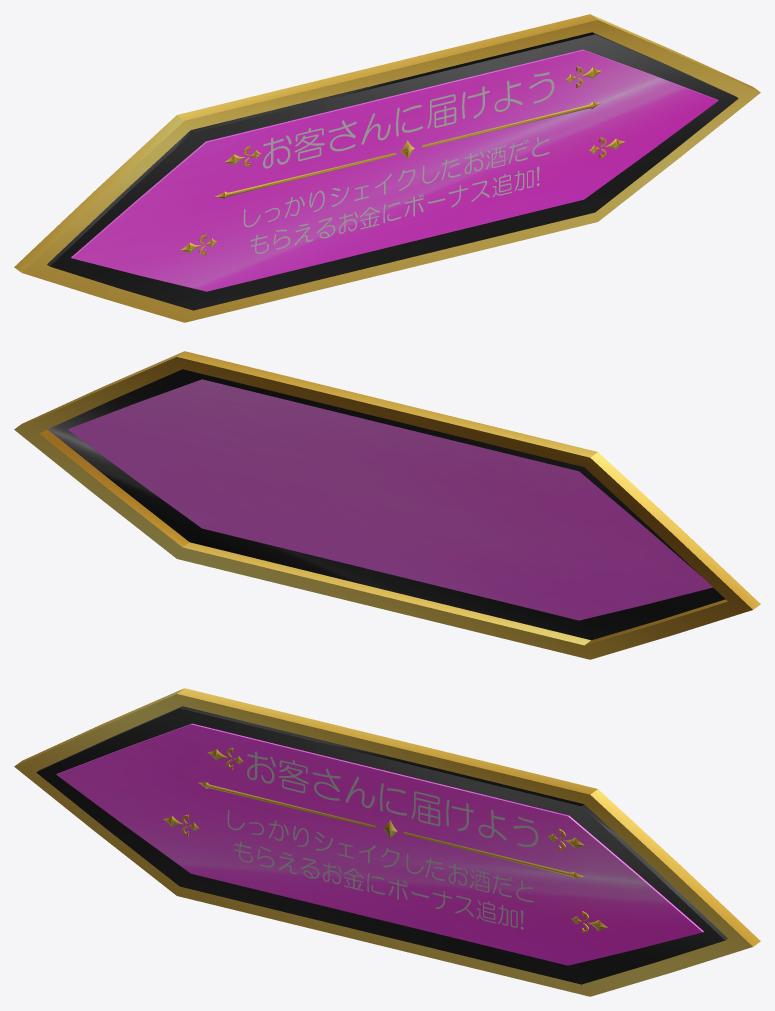
File: tutorial3.obj
3 views of the same model, one above another, from view 1: azimuth 30°, elevation 25°; view 2: azimuth 150°, elevation 25°; view 3: azimuth 330°, elevation 25° (orthographic).
Parts seen in each view (by area): view 1: 立方体.002, 立方体, 立方体.001, テキスト, 立方体.011, 立方体.012; view 2: 立方体.002, 立方体, 立方体.001; view 3: 立方体.002, 立方体, 立方体.001, テキスト, 立方体.012, 立方体.011.
Boxes of the visible parts, box(x1,y1,x2,y2) form: 立方体.002: box(71, 49, 718, 291); 立方体: box(14, 14, 760, 322); 立方体.001: box(47, 32, 738, 310); テキスト: box(243, 72, 554, 253); 立方体.011: box(215, 153, 396, 198); 立方体.012: box(422, 102, 601, 147); 立方体.002: box(67, 379, 712, 620); 立方体: box(14, 351, 760, 659); 立方体.001: box(48, 369, 725, 640); 立方体.002: box(56, 723, 703, 965); 立方体: box(14, 688, 760, 996); 立方体.001: box(36, 706, 727, 984); テキスト: box(227, 751, 538, 929); 立方体.012: box(403, 832, 583, 878); 立方体.011: box(198, 782, 375, 828).
Bounding box in the file's own units: 9.03 × 2.36 × 0.3007.
1 material, 1 textured.
